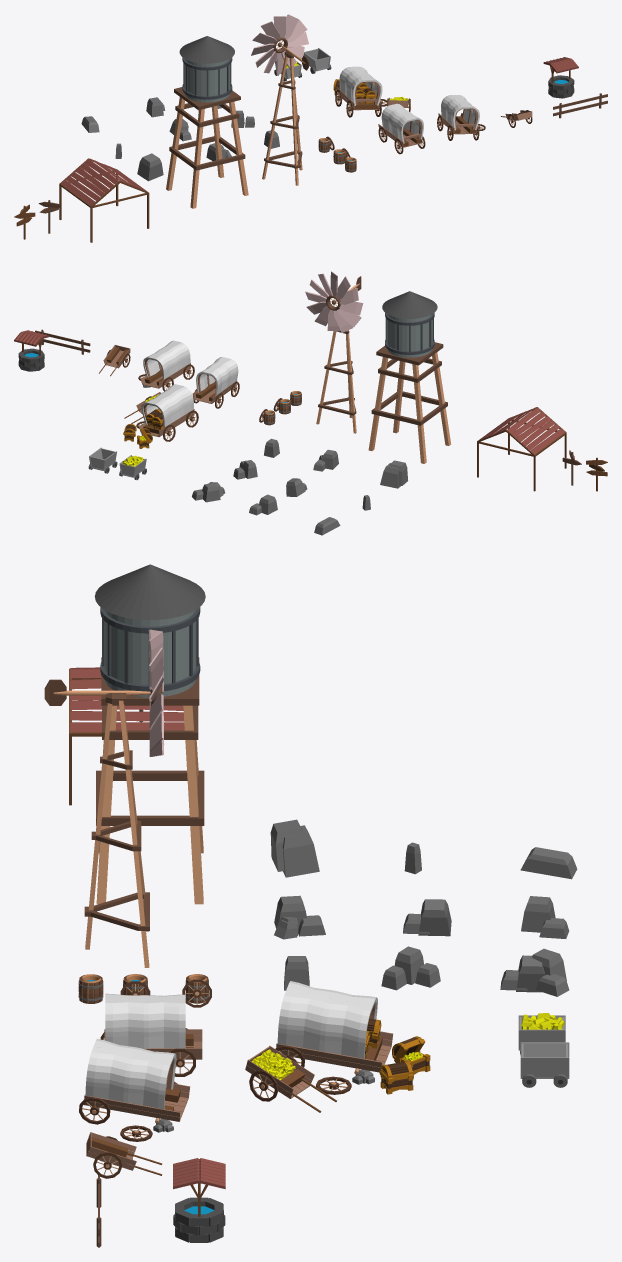
Rendered from Wüste Anderes.fbx.
3 views of the same model, one above another, from view 1: azimuth 30°, elevation 25°; view 2: azimuth 150°, elevation 25°; view 3: azimuth 270°, elevation 25° (orthographic). The views are drawn at different scales.
Visible parts, largest first — view 1: Cylinder, Cube.001, Cube.002, Cylinder.002, Cylinder.004, Cylinder.003, Cube.006, Cube.011, Cube.003, Cube.008; view 2: Cylinder, Cube.001, Cylinder.002, Cube.002, Cylinder.003, Cylinder.004, Cube.006, Cube.011, Cube.003, Cube.009, Cylinder.001, Cube.016 (+4 smaller); view 3: Cylinder, Cylinder.002, Cube.001, Cylinder.003, Cylinder.004, Cube.006, Cube.002, Cube.016, Cube.011, Cube.003, Cylinder.001, Cube.019 (+5 smaller).
Part boxes in pixels (bbox=[...]): Cylinder: bbox=[166, 36, 248, 208]; Cube.001: bbox=[251, 14, 308, 185]; Cube.002: bbox=[59, 158, 149, 242]; Cylinder.002: bbox=[333, 66, 410, 117]; Cylinder.004: bbox=[378, 103, 425, 154]; Cylinder.003: bbox=[437, 95, 485, 140]; Cube.006: bbox=[543, 57, 578, 98]; Cube.011: bbox=[137, 153, 163, 181]; Cube.003: bbox=[303, 48, 331, 73]; Cube.008: bbox=[553, 93, 607, 118]; Cylinder: bbox=[368, 291, 451, 463]; Cube.001: bbox=[305, 271, 363, 433]; Cylinder.002: bbox=[123, 384, 198, 448]; Cube.002: bbox=[477, 407, 566, 491]; Cylinder.003: bbox=[138, 340, 194, 391]; Cylinder.004: bbox=[192, 357, 239, 408]; Cube.006: bbox=[14, 330, 49, 371]; Cube.011: bbox=[380, 460, 407, 488]; Cube.003: bbox=[88, 447, 117, 473]; Cube.009: bbox=[119, 455, 146, 480]; Cylinder.001: bbox=[99, 345, 130, 376]; Cube.016: bbox=[192, 482, 225, 502]; Cylinder: bbox=[94, 564, 205, 904]; Cylinder.002: bbox=[245, 981, 430, 1112]; Cube.001: bbox=[44, 629, 164, 967]; Cylinder.003: bbox=[79, 1038, 190, 1141]; Cylinder.004: bbox=[100, 993, 202, 1076]; Cube.006: bbox=[173, 1158, 225, 1242]; Cube.002: bbox=[69, 667, 184, 805]; Cube.016: bbox=[500, 948, 569, 996]; Cube.011: bbox=[270, 819, 319, 877]; Cube.003: bbox=[520, 1042, 569, 1087]; Cylinder.001: bbox=[86, 1132, 162, 1178]; Cube.019: bbox=[381, 946, 440, 990].
Bounding box in the file's own units: 2904 × 785 × 1152.
